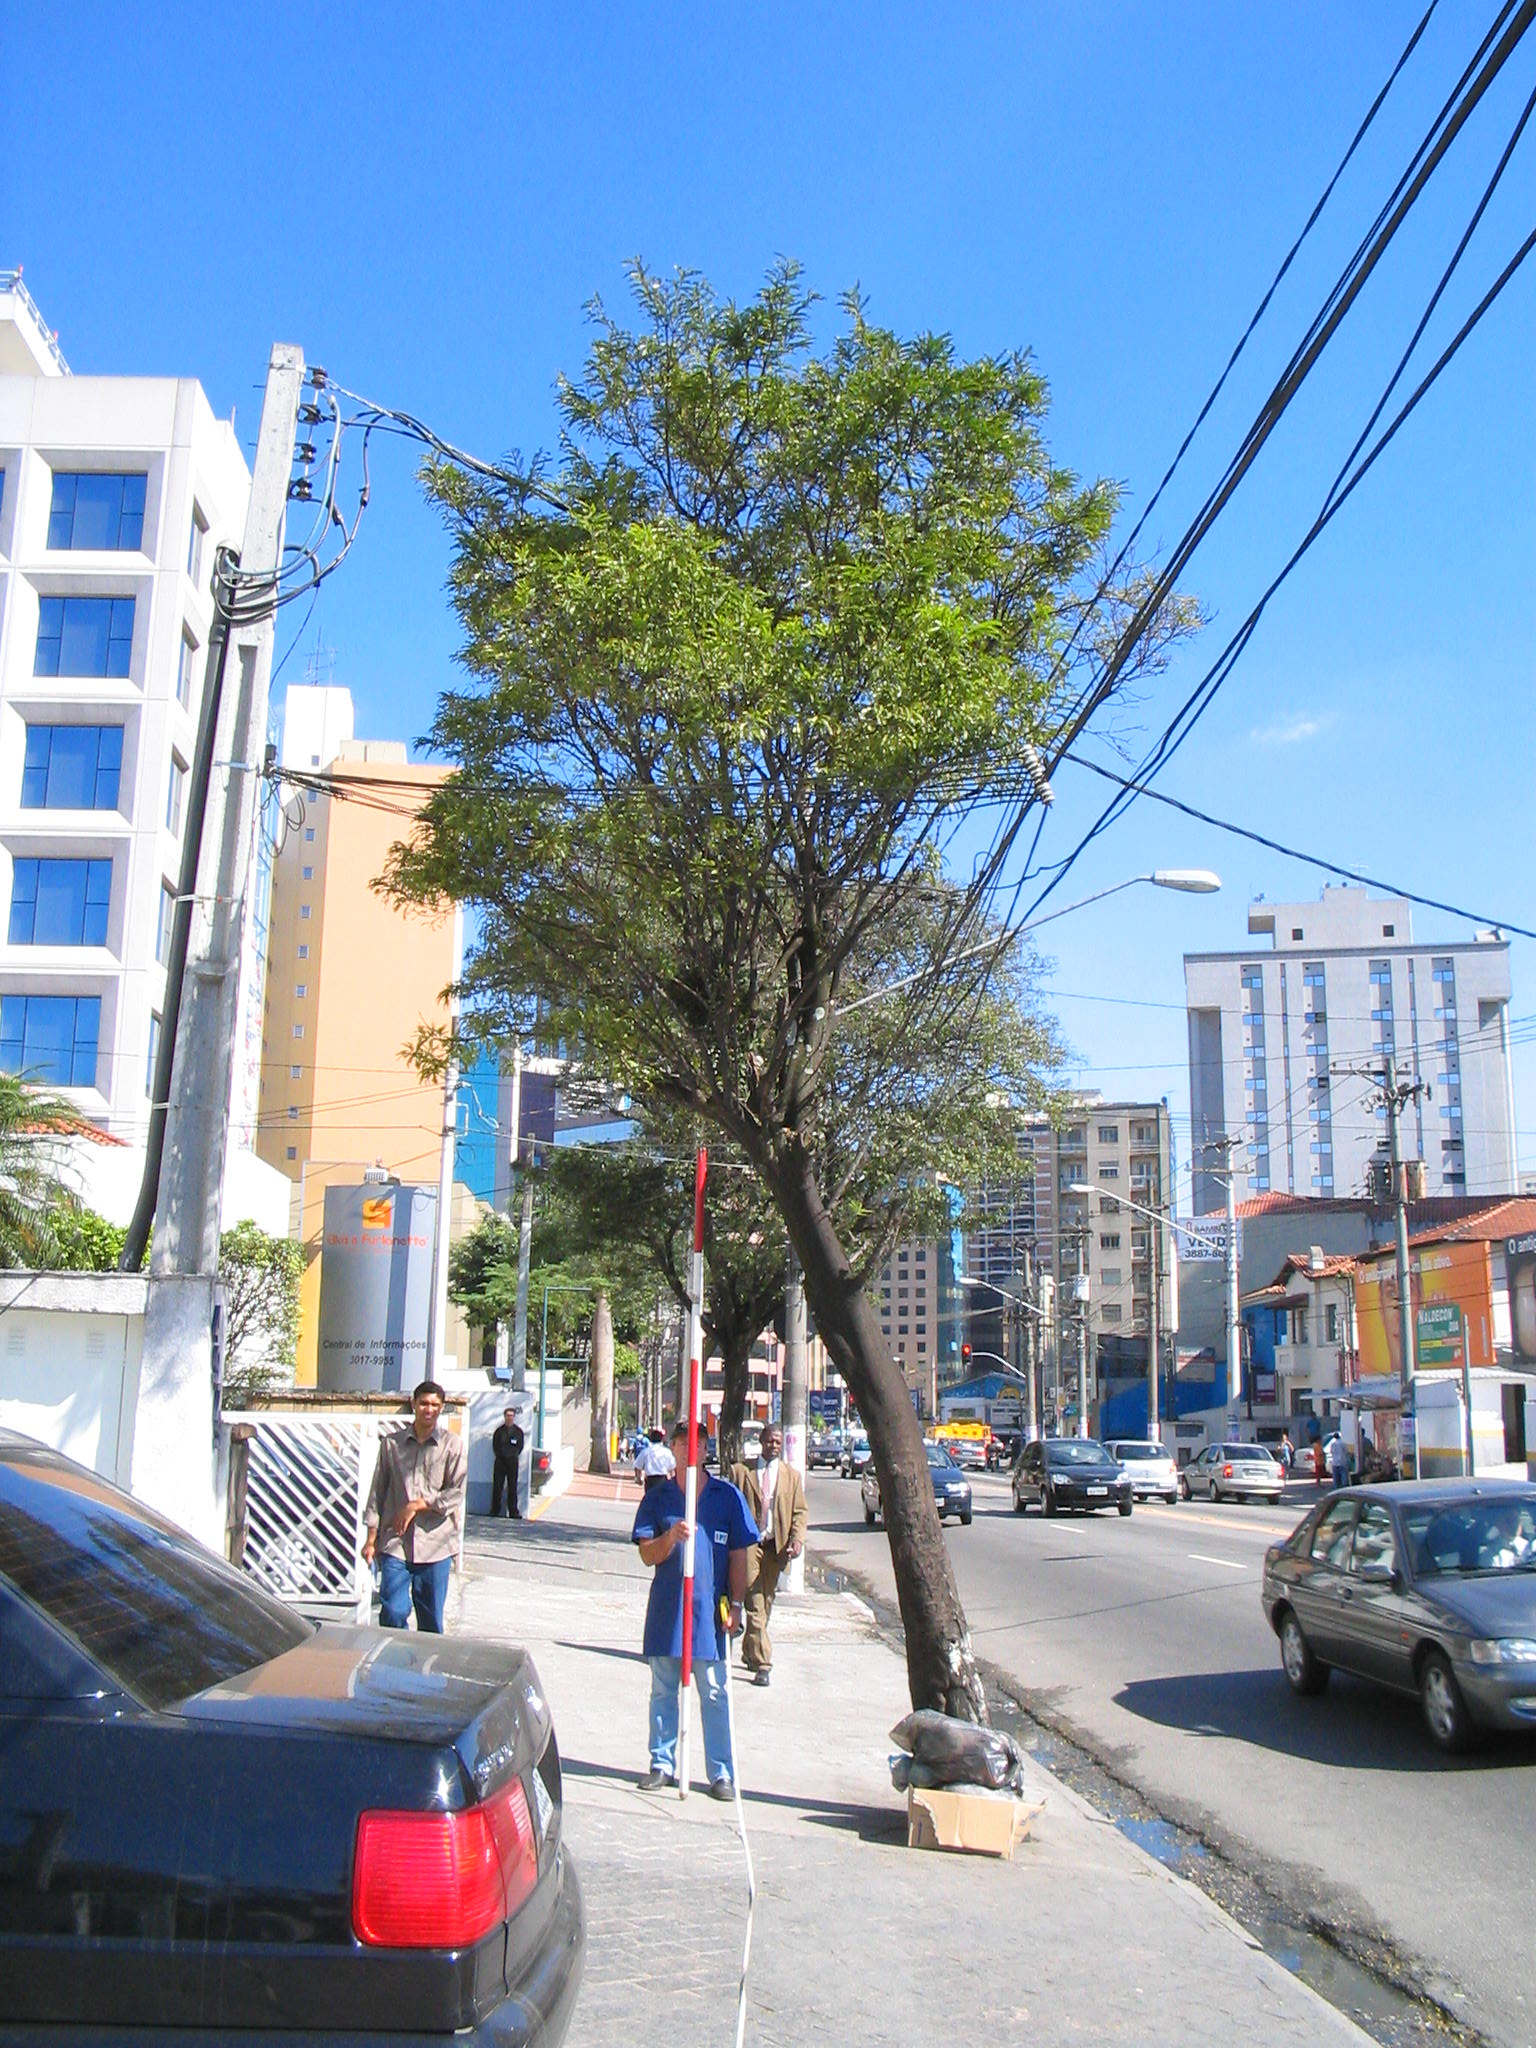crown: (378, 255, 1210, 1161)
stem: (739, 1190, 1046, 1800)
stick: (658, 1147, 720, 1796)
tree: (369, 253, 1212, 1808)
